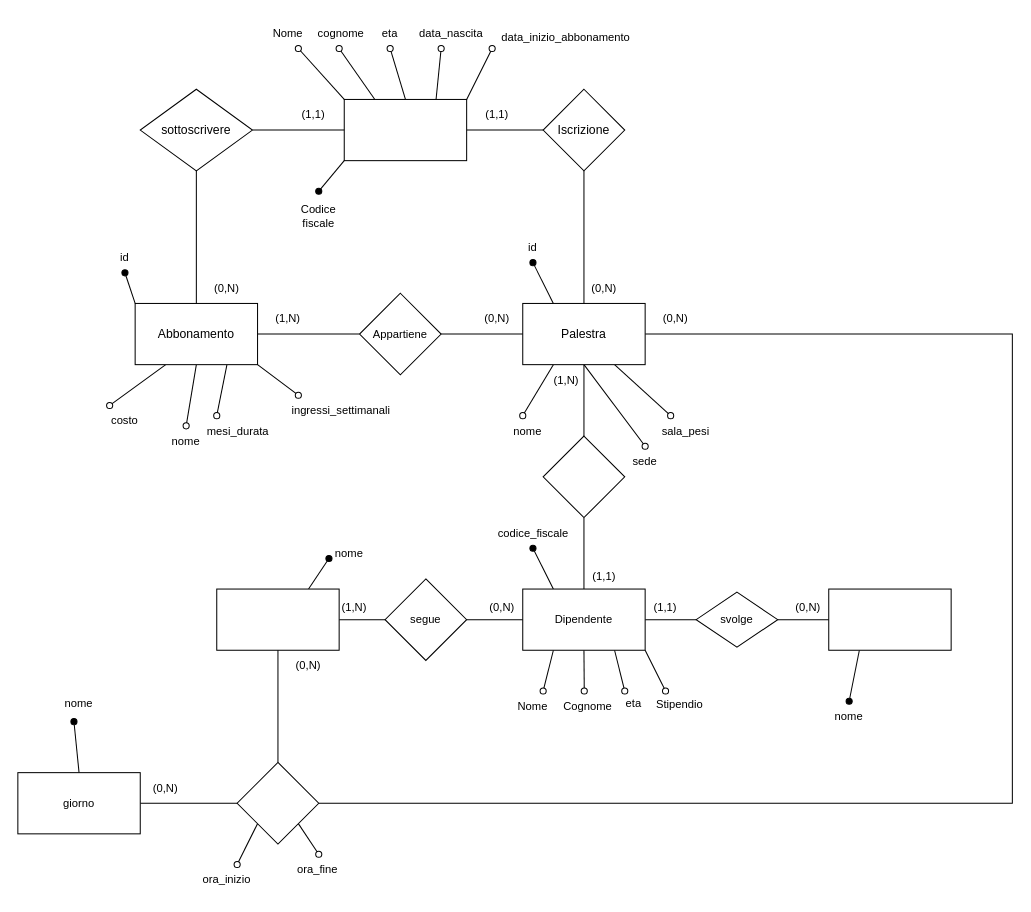
The diagram is 1031 pixels wide and 912 high, and some of its shapes have lost their labels. Here are the shapes that lost their labels. From the top down, the centre of each, then its label:
At point (405, 129): "Iscritto".
At point (583, 476): "lavora".
At point (277, 619): "Corso".
At point (889, 619): "lavoro".
At point (277, 802): "produce".
